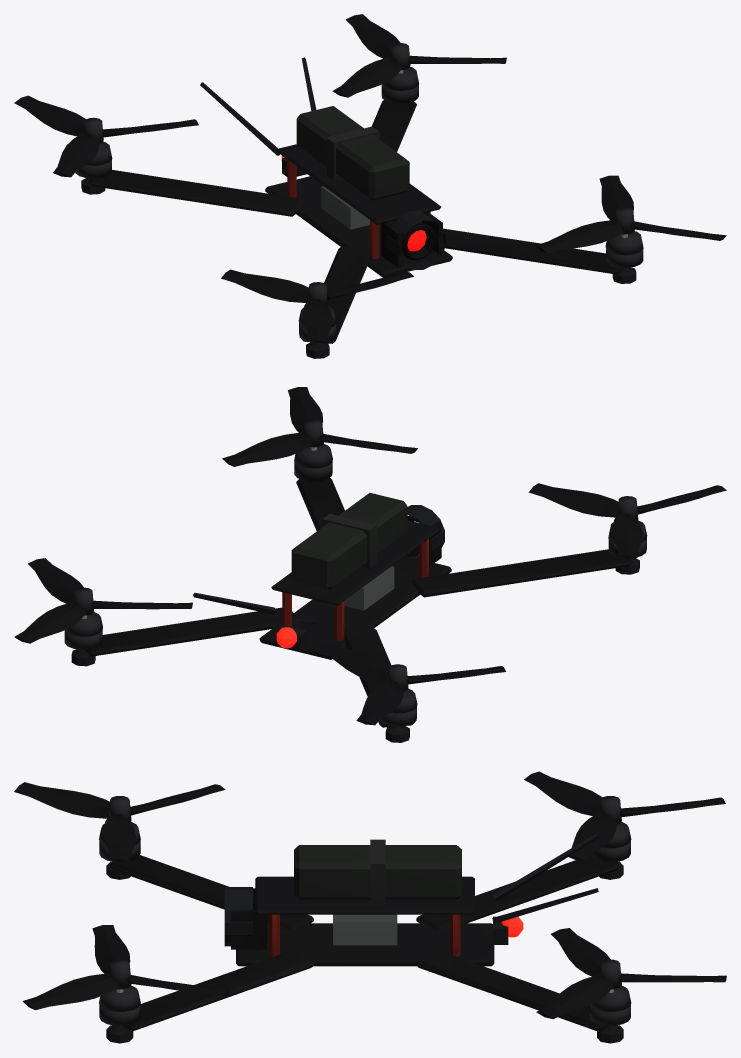
The model's file is hunter_drone_c.glb.
The picture shows the model from 3 angles, top to bottom: view 1: azimuth 30°, elevation 25°; view 2: azimuth 150°, elevation 25°; view 3: azimuth 270°, elevation 25°; orthographic projection. The views are drawn at different scales.
Visible parts, largest first — view 1: body_LOD0, rotor_2_LOD0, rotor_1_LOD0, rotor_3_LOD0, rotor_4_LOD0, eye_LOD0; view 2: body_LOD0, rotor_2_LOD0, rotor_1_LOD0, rotor_3_LOD0, rotor_4_LOD0, eye_LOD0, strobe_LOD0; view 3: body_LOD0, rotor_3_LOD0, rotor_1_LOD0, rotor_4_LOD0, rotor_2_LOD0, eye_LOD0, strobe_LOD0.
Part boxes in pixels (x1=…): body_LOD0: x1=75, y1=57, x2=643, y2=358; rotor_2_LOD0: x1=14, y1=95, x2=198, y2=177; rotor_1_LOD0: x1=221, y1=269, x2=414, y2=342; rotor_3_LOD0: x1=332, y1=14, x2=506, y2=97; rotor_4_LOD0: x1=535, y1=175, x2=726, y2=253; eye_LOD0: x1=387, y1=211, x2=445, y2=269; body_LOD0: x1=64, y1=444, x2=647, y2=742; rotor_2_LOD0: x1=317, y1=641, x2=505, y2=725; rotor_1_LOD0: x1=528, y1=483, x2=726, y2=558; rotor_3_LOD0: x1=14, y1=558, x2=192, y2=643; rotor_4_LOD0: x1=222, y1=387, x2=417, y2=466; eye_LOD0: x1=399, y1=505, x2=444, y2=565; strobe_LOD0: x1=276, y1=625, x2=307, y2=651; body_LOD0: x1=99, y1=821, x2=631, y2=1043; rotor_3_LOD0: x1=536, y1=928, x2=726, y2=1019; rotor_1_LOD0: x1=14, y1=782, x2=225, y2=862; rotor_4_LOD0: x1=22, y1=925, x2=231, y2=1010; rotor_2_LOD0: x1=524, y1=771, x2=725, y2=860; eye_LOD0: x1=224, y1=887, x2=252, y2=946; strobe_LOD0: x1=493, y1=916, x2=523, y2=944.
Size of what is drawn, in the model's own units: 0.4505 by 0.0927 by 0.5524.
